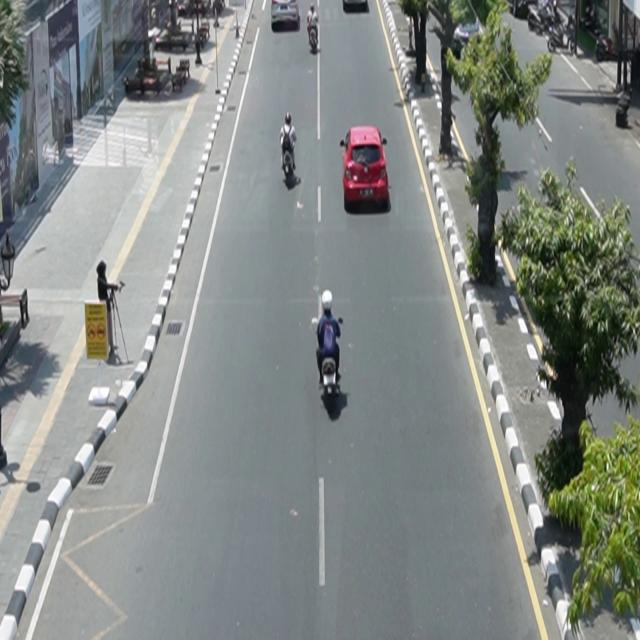car: (341, 126, 390, 210), (453, 17, 486, 59), (272, 1, 301, 31)
